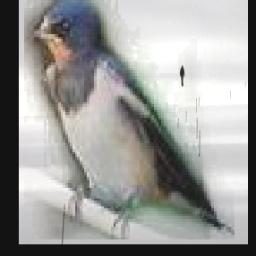Swallow: (25, 0, 235, 240)
